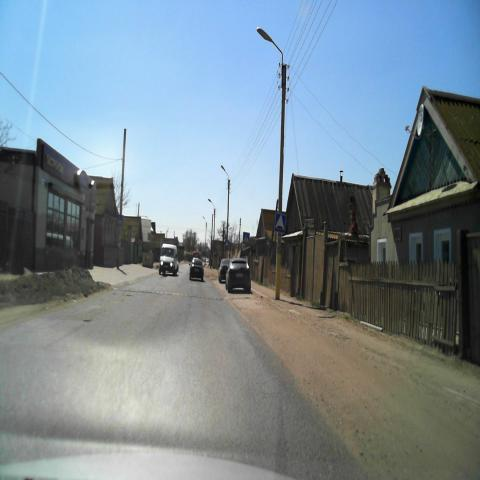5_19_1: (243, 232, 249, 246)
5_20: (273, 213, 286, 233), (224, 240, 229, 250)
